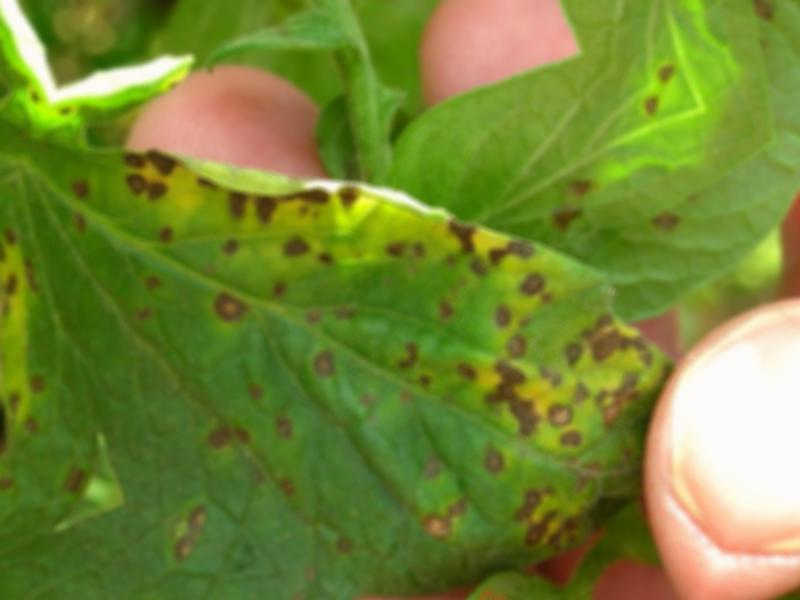Tomato Septoria leaf spot: (0, 50, 706, 600)
